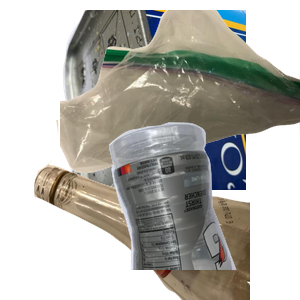glass: (31, 120, 271, 300)
metal: (60, 10, 300, 190)
plastic: (106, 120, 300, 300)
trash: (60, 10, 300, 176)
